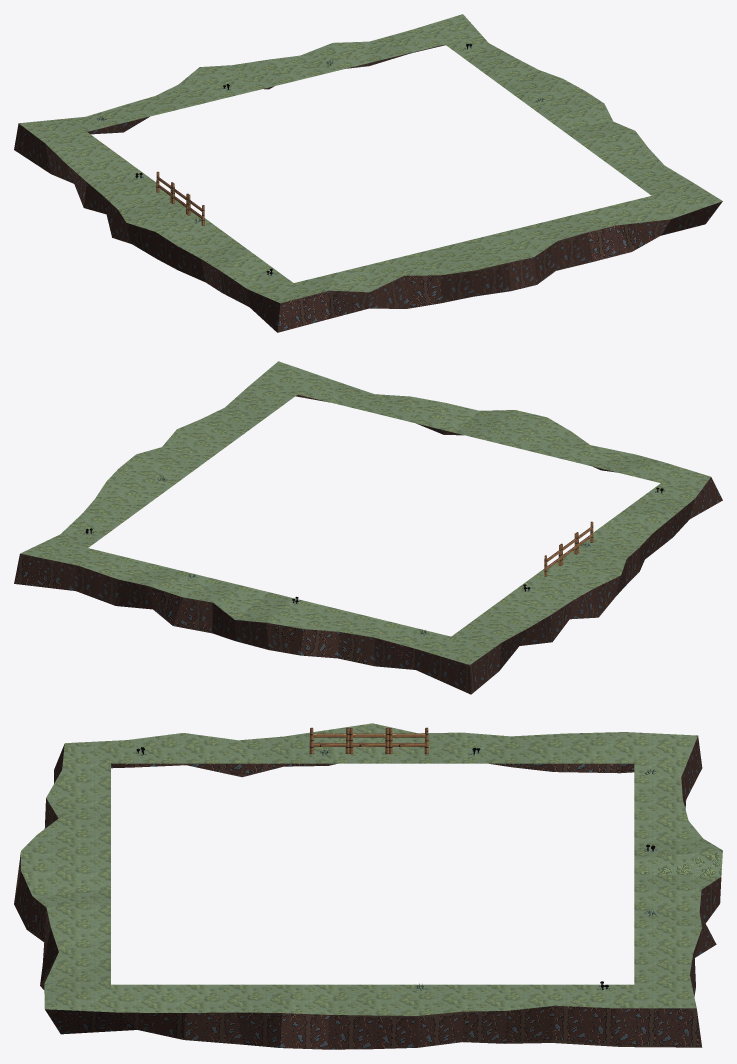
Rendered from entorno.fbx.
The picture shows the model from 3 angles, top to bottom: view 1: azimuth 30°, elevation 25°; view 2: azimuth 150°, elevation 25°; view 3: azimuth 270°, elevation 25°; orthographic projection. The views are drawn at different scales.
Parts seen in each view (by area): view 1: bosque_entorno; view 2: bosque_entorno; view 3: bosque_entorno.
Part boxes in pixels (box(x1,y1,x2,y2)): bosque_entorno: box(14, 14, 722, 332); bosque_entorno: box(14, 361, 722, 694); bosque_entorno: box(14, 723, 722, 1049).
Bounding box in the file's own units: 1631 × 169 × 1652.
7 materials, 5 textured.
